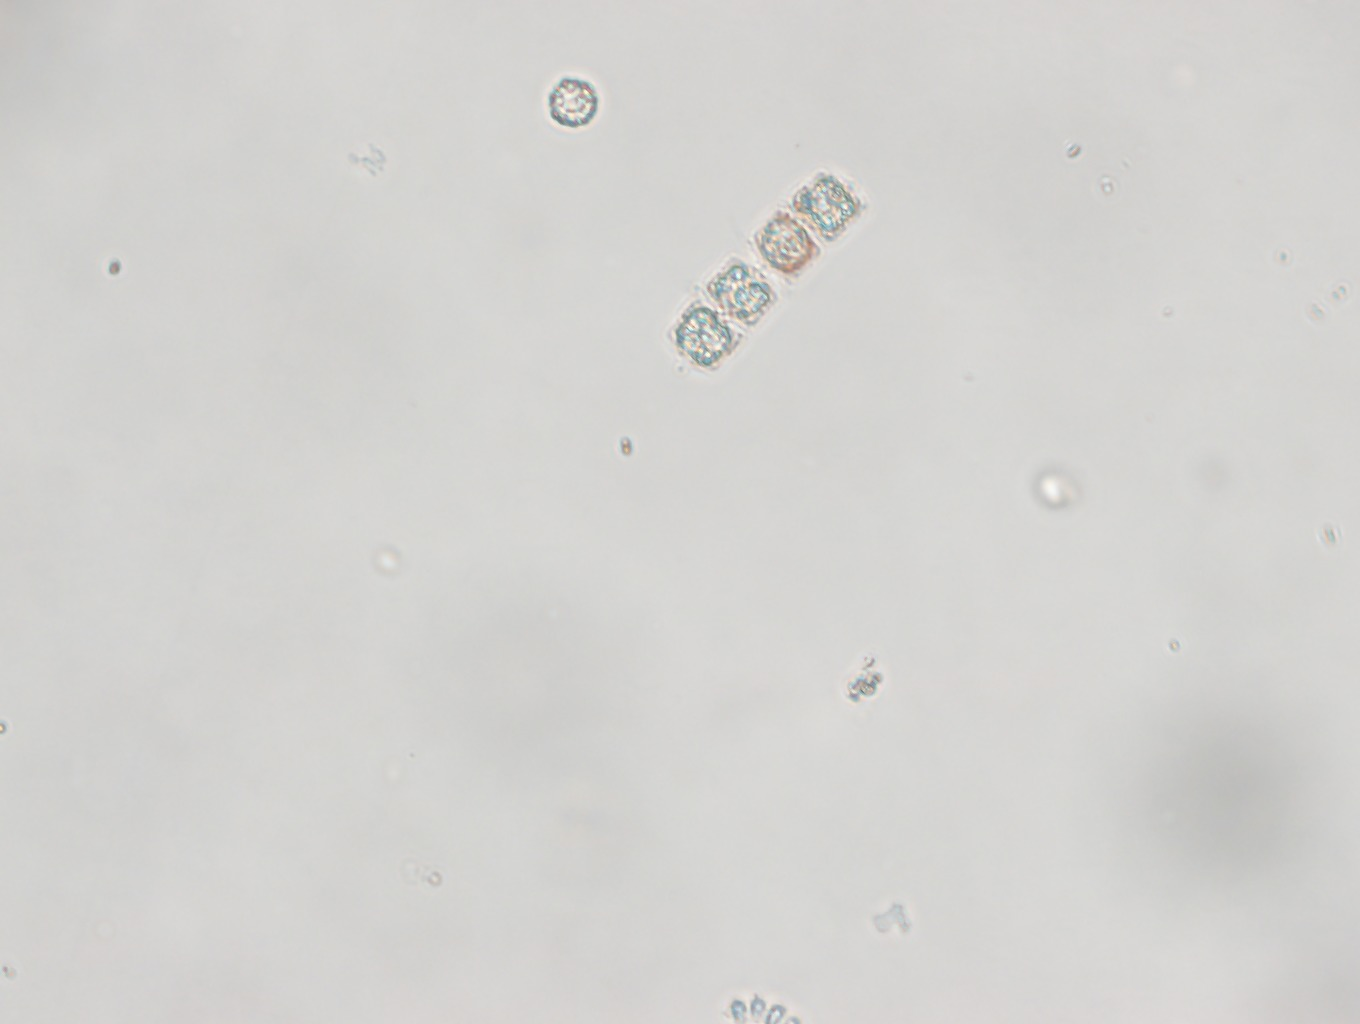detonula pumila: (660, 162, 870, 375)
